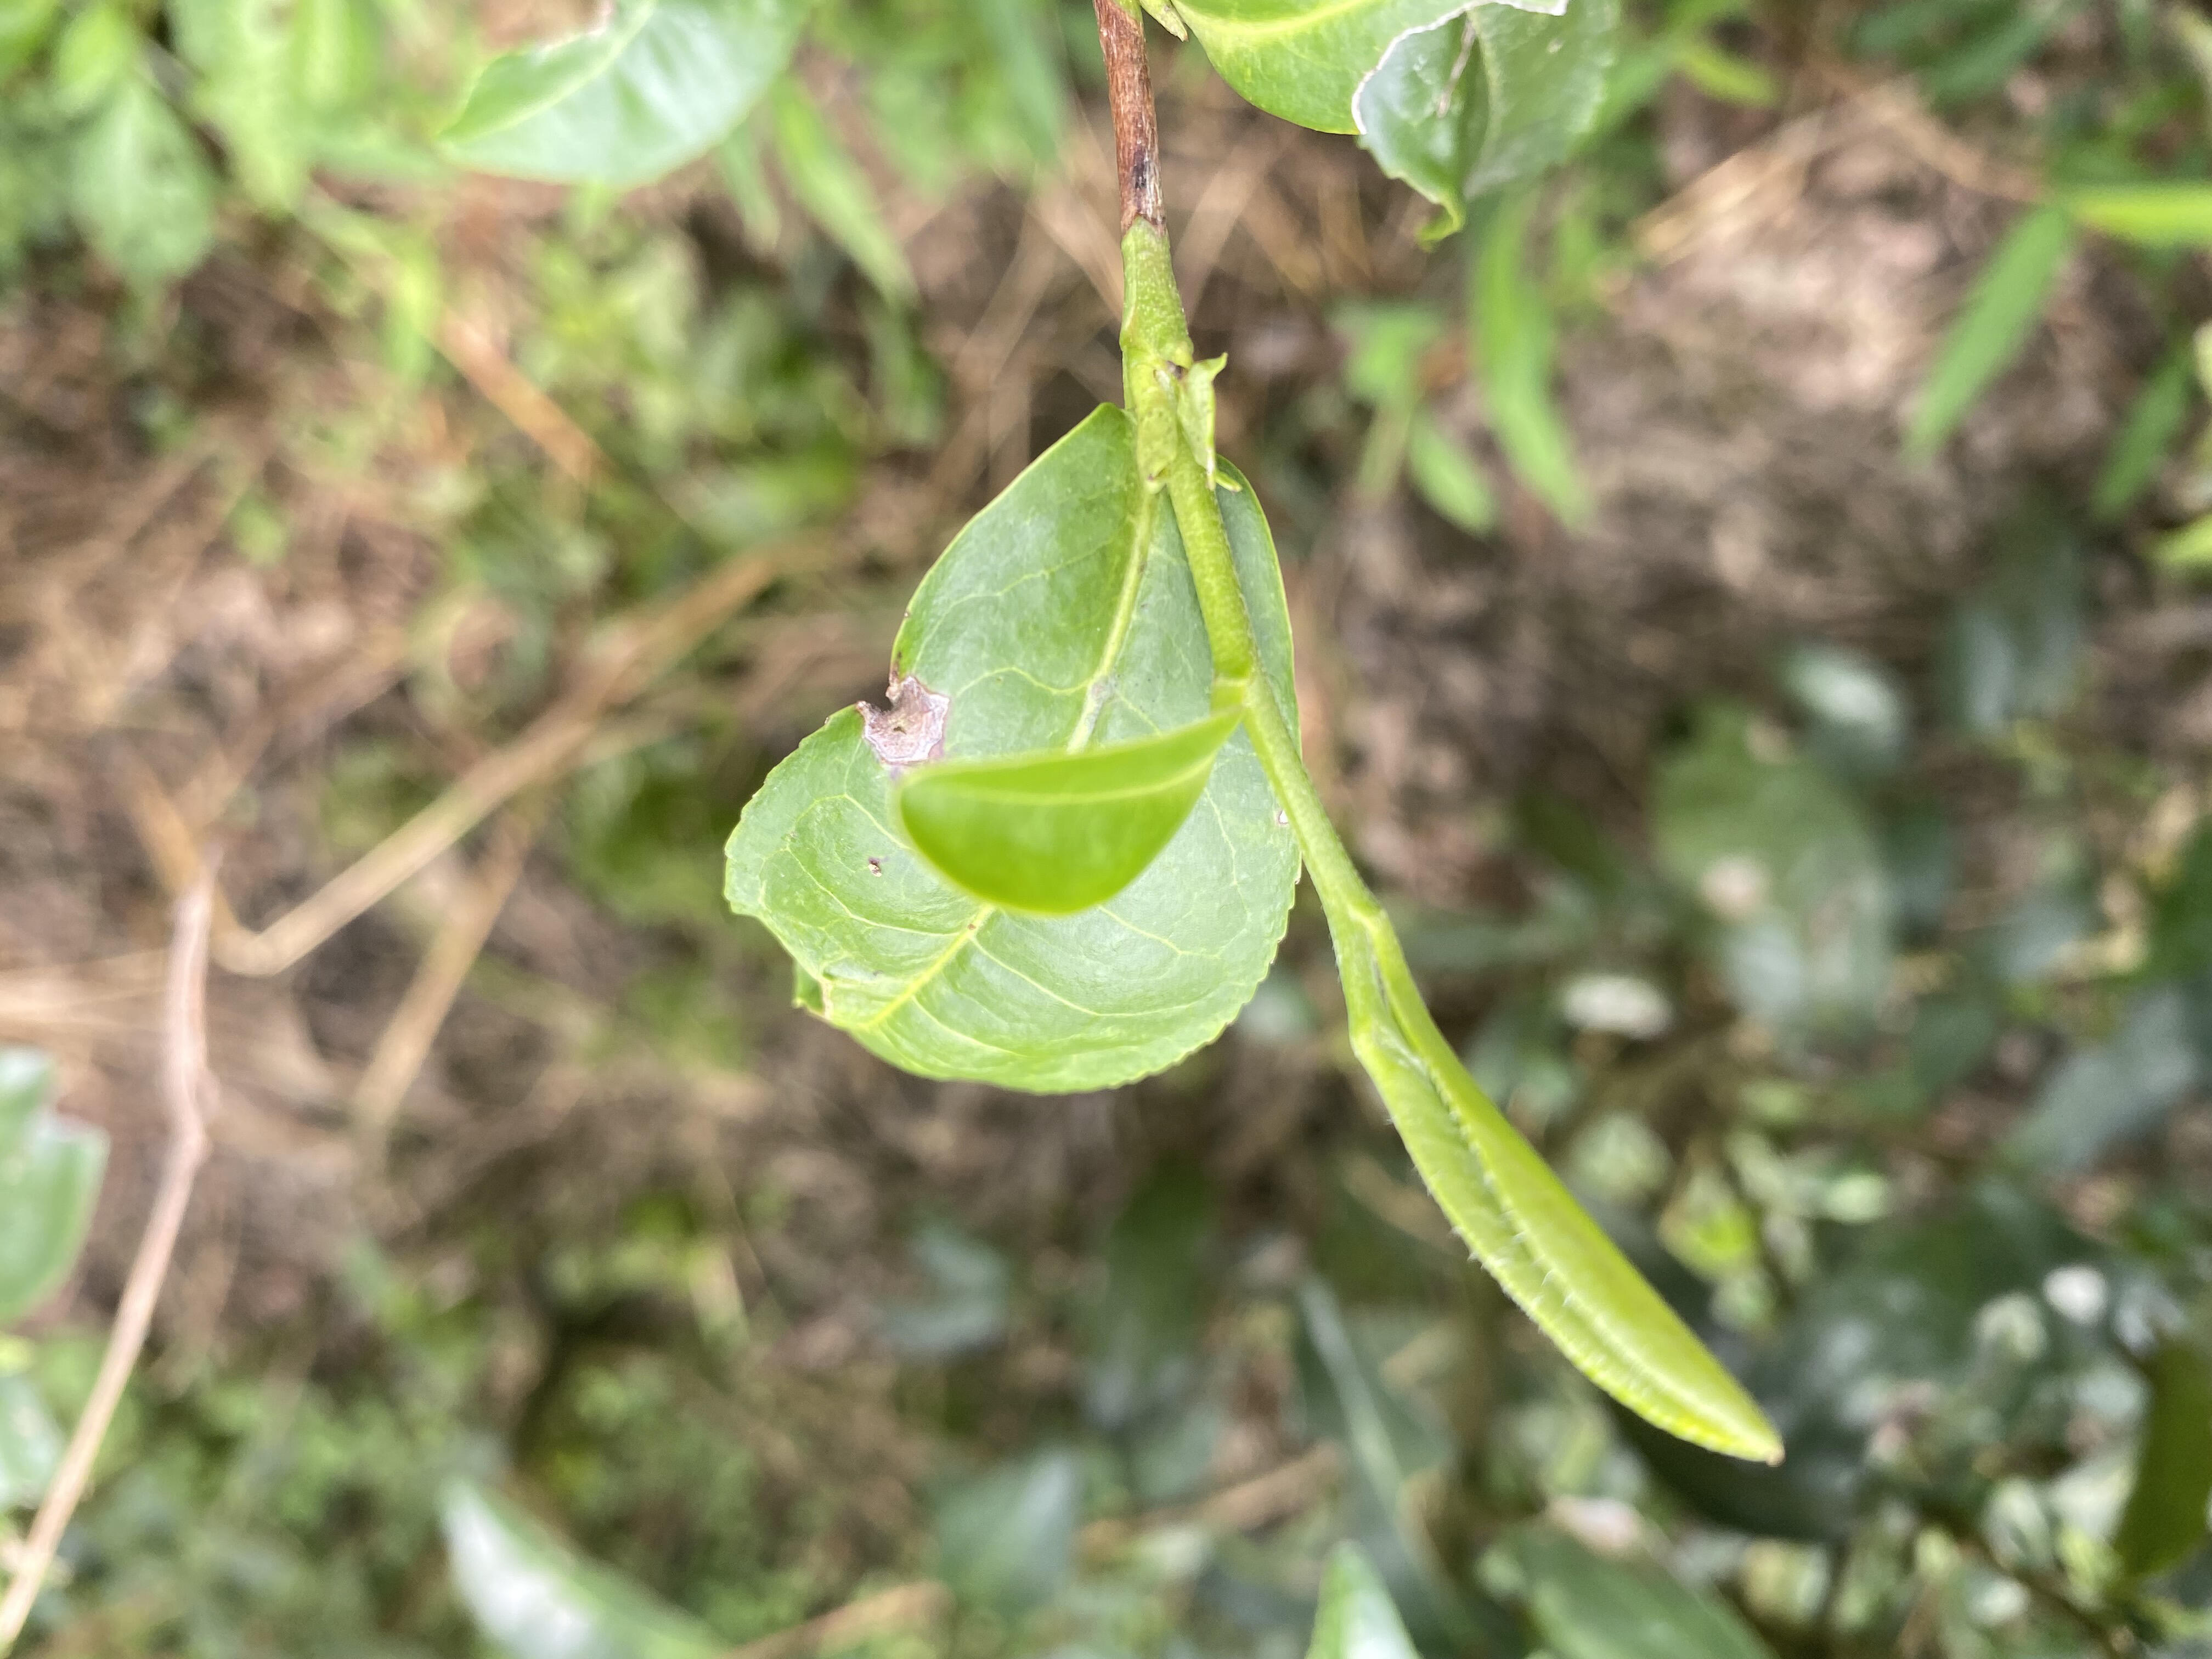healthy: (899, 706, 1245, 917)
tanju_high: (723, 403, 1305, 1100)
